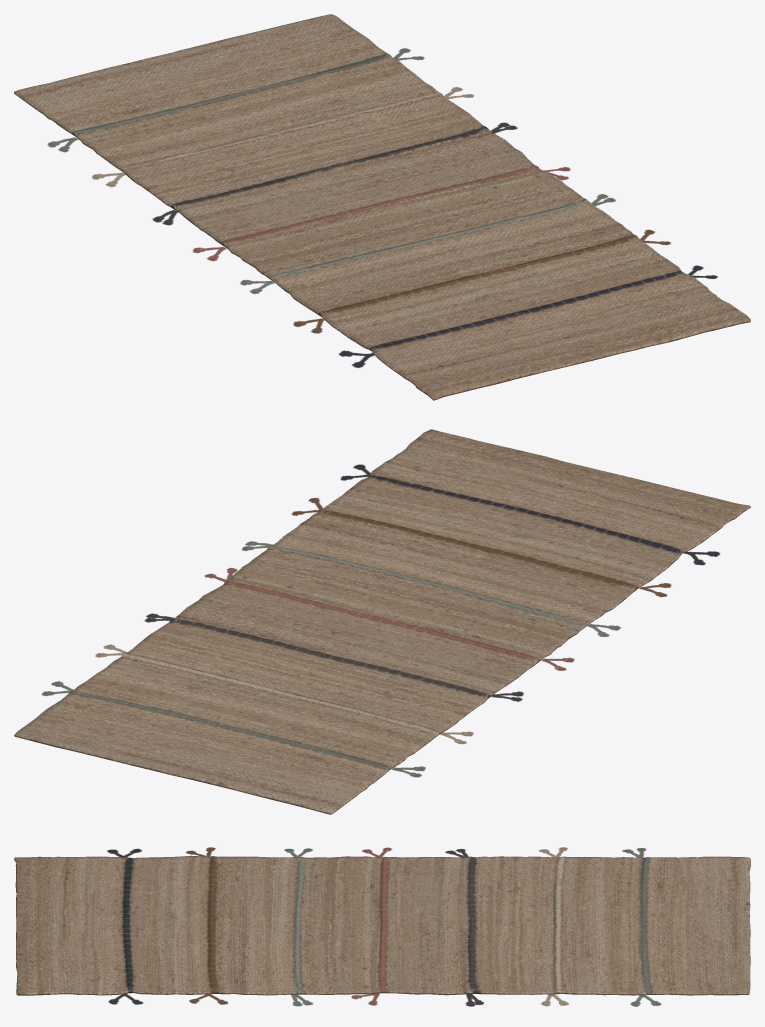
The model's file is raklev_dywan_tkany_na_pasko_80408024.glb.
The picture shows the model from 3 angles, top to bottom: view 1: azimuth 30°, elevation 25°; view 2: azimuth 150°, elevation 25°; view 3: azimuth 270°, elevation 25°; orthographic projection. The views are drawn at different scales.
Visible parts, largest first — view 1: raklev_dywan_tkany_na_pasko_80408024; view 2: raklev_dywan_tkany_na_pasko_80408024; view 3: raklev_dywan_tkany_na_pasko_80408024.
Part boxes in pixels (x1,y1,x2,y2): raklev_dywan_tkany_na_pasko_80408024: (14,14,750,400); raklev_dywan_tkany_na_pasko_80408024: (14,429,750,814); raklev_dywan_tkany_na_pasko_80408024: (14,847,750,1006).
Size of the model in its own units: 0.8831 by 0.015 by 1.64.
1 material, 1 textured.
